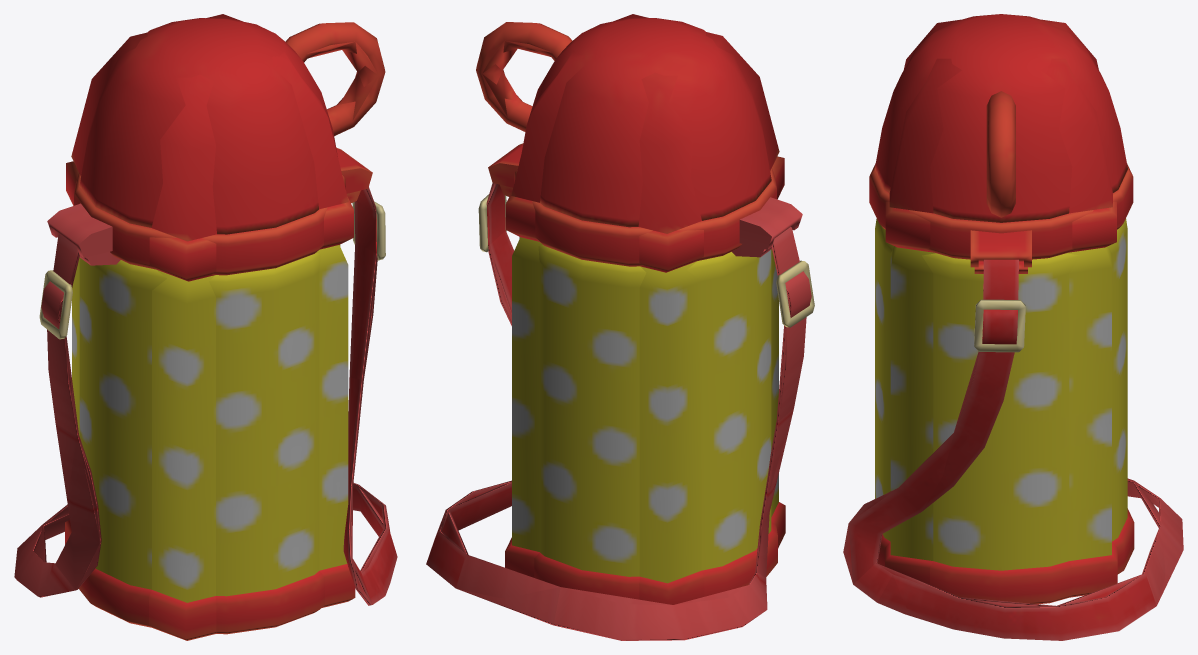
File: pi_waterbottle02_01.gltf
The picture shows the model from 3 angles, left to right: view 1: azimuth 30°, elevation 25°; view 2: azimuth 150°, elevation 25°; view 3: azimuth 270°, elevation 25°; orthographic projection. The views are drawn at different scales.
Parts seen in each view (by area): view 1: um_pi_waterbottle02_01_model_lod0Shape:pi_waterbottle02_01_b, um_pi_waterbottle02_01_model_lod2Shape:pi_waterbottle02_01_b, um_pi_waterbottle02_01_model_lod1Shape:pi_waterbottle02_01_b; view 2: um_pi_waterbottle02_01_model_lod0Shape:pi_waterbottle02_01_b, um_pi_waterbottle02_01_model_lod2Shape:pi_waterbottle02_01_b, um_pi_waterbottle02_01_model_lod1Shape:pi_waterbottle02_01_b; view 3: um_pi_waterbottle02_01_model_lod0Shape:pi_waterbottle02_01_b, um_pi_waterbottle02_01_model_lod2Shape:pi_waterbottle02_01_b, um_pi_waterbottle02_01_model_lod1Shape:pi_waterbottle02_01_b.
Part boxes in pixels (x1,y1,x2,y2): um_pi_waterbottle02_01_model_lod0Shape:pi_waterbottle02_01_b: (14, 18, 397, 634); um_pi_waterbottle02_01_model_lod2Shape:pi_waterbottle02_01_b: (34, 14, 388, 640); um_pi_waterbottle02_01_model_lod1Shape:pi_waterbottle02_01_b: (55, 210, 396, 595); um_pi_waterbottle02_01_model_lod0Shape:pi_waterbottle02_01_b: (426, 18, 814, 640); um_pi_waterbottle02_01_model_lod2Shape:pi_waterbottle02_01_b: (442, 14, 793, 604); um_pi_waterbottle02_01_model_lod1Shape:pi_waterbottle02_01_b: (457, 201, 793, 624); um_pi_waterbottle02_01_model_lod0Shape:pi_waterbottle02_01_b: (843, 14, 1183, 640); um_pi_waterbottle02_01_model_lod2Shape:pi_waterbottle02_01_b: (848, 19, 1161, 606); um_pi_waterbottle02_01_model_lod1Shape:pi_waterbottle02_01_b: (877, 170, 1183, 628).
Bounding box in the file's own units: 0.2159 × 0.3218 × 0.1898.
Materials: 1 (1 with a texture image).
